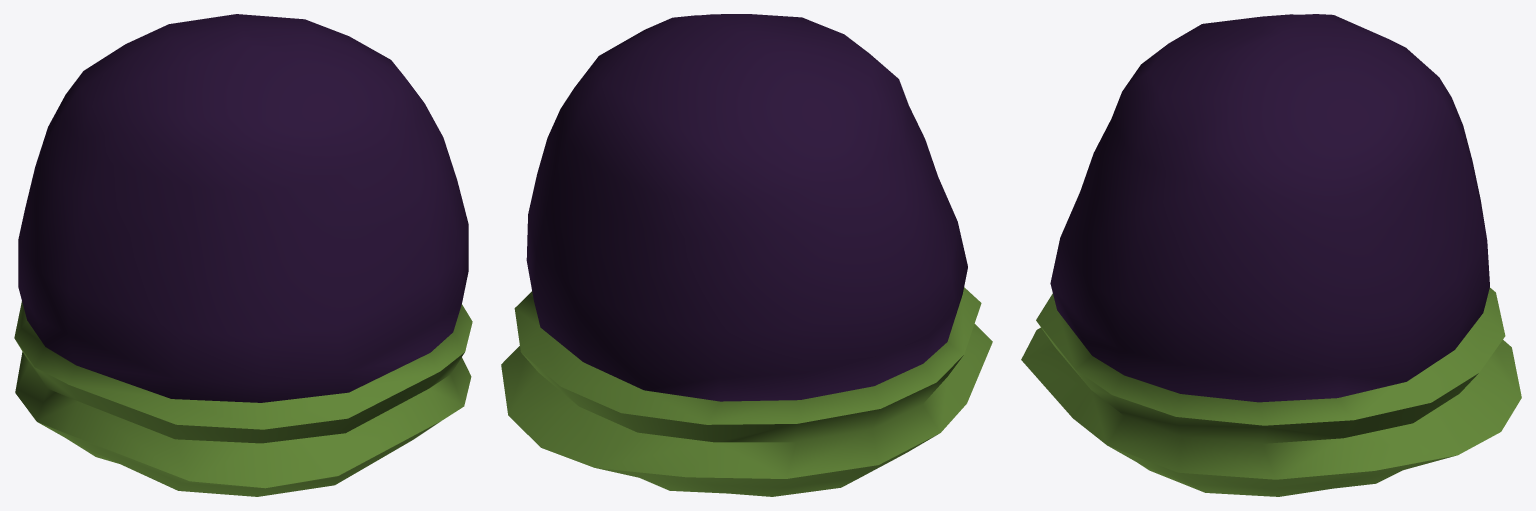
Rendered from Wizard_Blob.fbx.
3 renders of one model, left to right at view 1: azimuth 30°, elevation 25°; view 2: azimuth 150°, elevation 25°; view 3: azimuth 270°, elevation 25°, orthographic.
Parts seen in each view (by area): view 1: Wizard_Blob; view 2: Wizard_Blob; view 3: Wizard_Blob.
Part boxes in pixels (<box>): Wizard_Blob: <box>14,14,472,496</box>; Wizard_Blob: <box>501,14,992,496</box>; Wizard_Blob: <box>1021,14,1521,496</box>.
Bounding box in the file's own units: 126 × 126 × 135.
